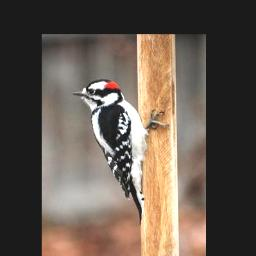Woodpecker: (73, 79, 170, 224)
